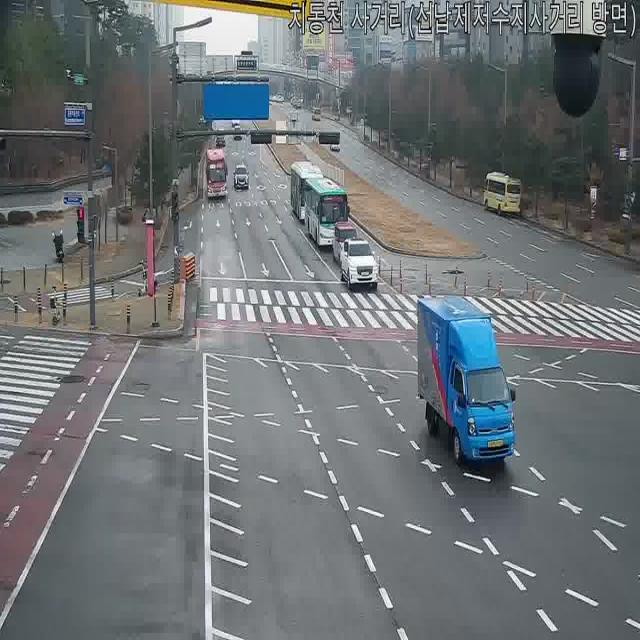Bus: (302, 166, 351, 251), (288, 160, 326, 224), (482, 172, 524, 216), (204, 150, 228, 202)
Car: (340, 237, 378, 290), (482, 172, 524, 216), (332, 223, 361, 265), (233, 164, 250, 192), (328, 133, 340, 152), (232, 124, 242, 143), (311, 106, 321, 122), (215, 134, 226, 148), (311, 106, 321, 120), (288, 111, 298, 123), (291, 98, 301, 109), (273, 94, 283, 104)
Truck: (426, 298, 530, 480)
